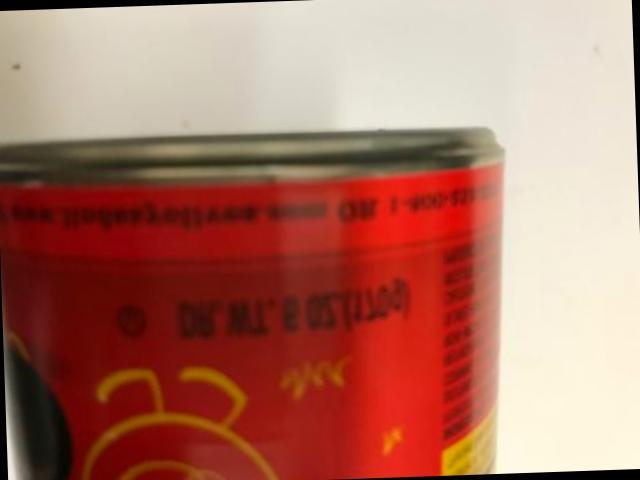metal: (0, 127, 505, 480)
